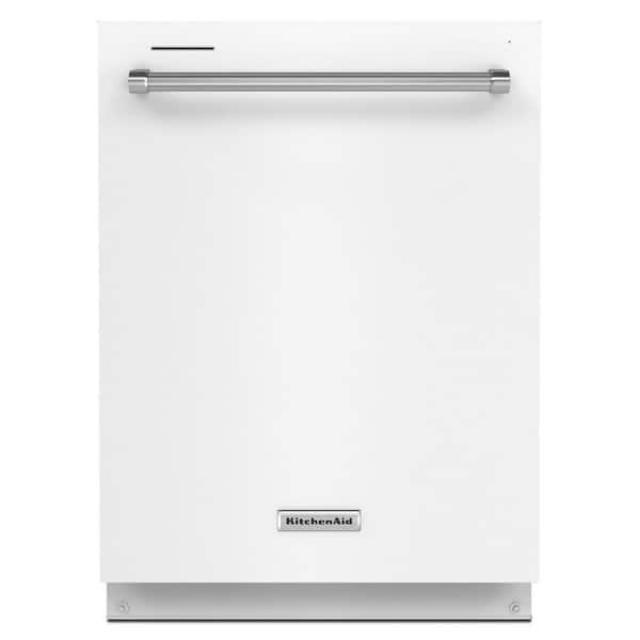dishwasher: (96, 14, 537, 620)
